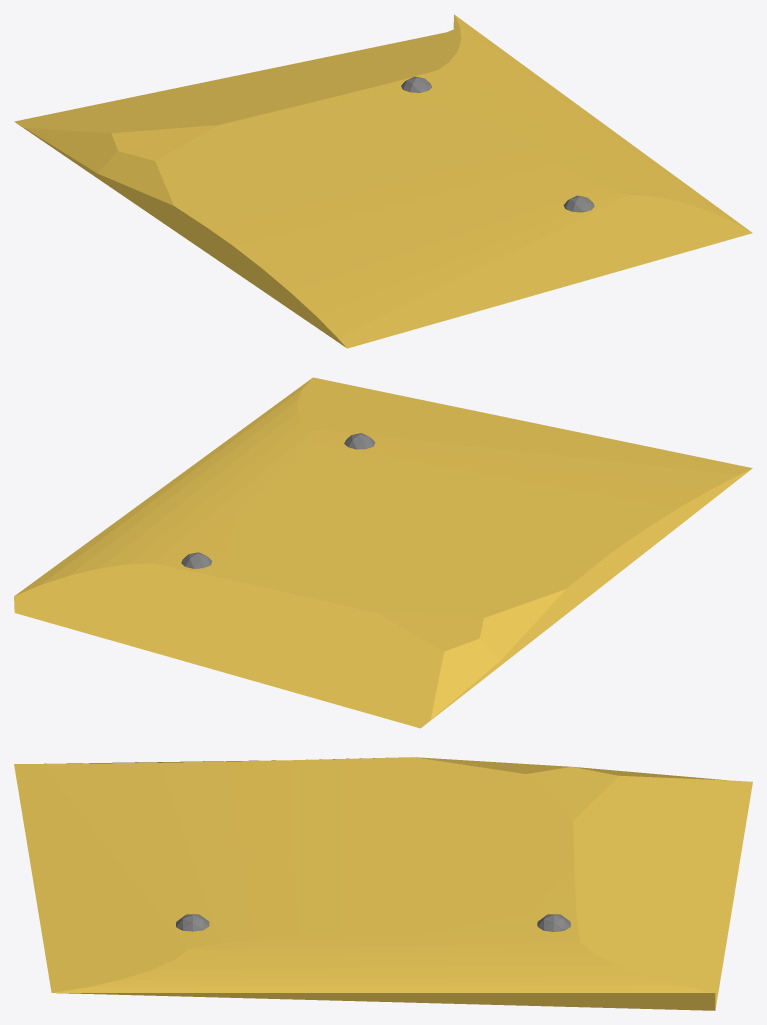
The model's file is island-2.glb.
3 views of the same model, one above another, from view 1: azimuth 30°, elevation 25°; view 2: azimuth 150°, elevation 25°; view 3: azimuth 270°, elevation 25° (orthographic). The views are drawn at different scales.
Visible parts, largest first — view 1: island; view 2: island; view 3: island.
Boxes of the visible parts, bbox=[...] form: island: bbox=[14, 14, 752, 348]; island: bbox=[14, 377, 752, 728]; island: bbox=[14, 757, 752, 1010].
Size of the model in its own units: 27.04 by 2 by 36.83.
